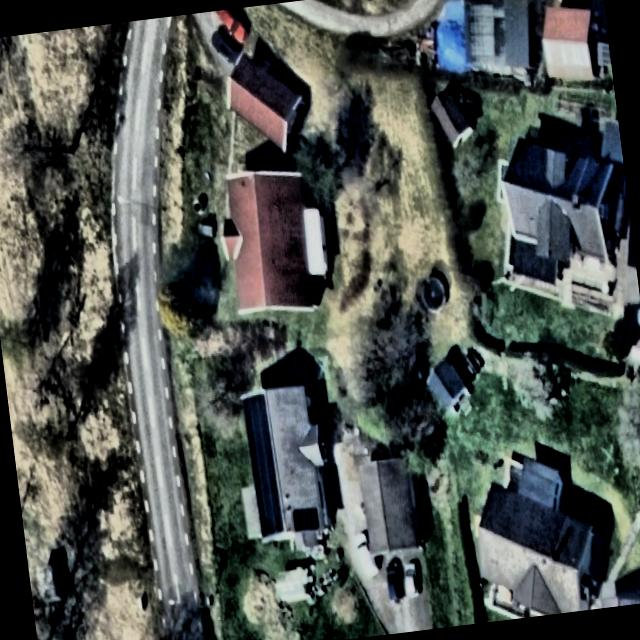roof_pv: (241, 394, 285, 544)
